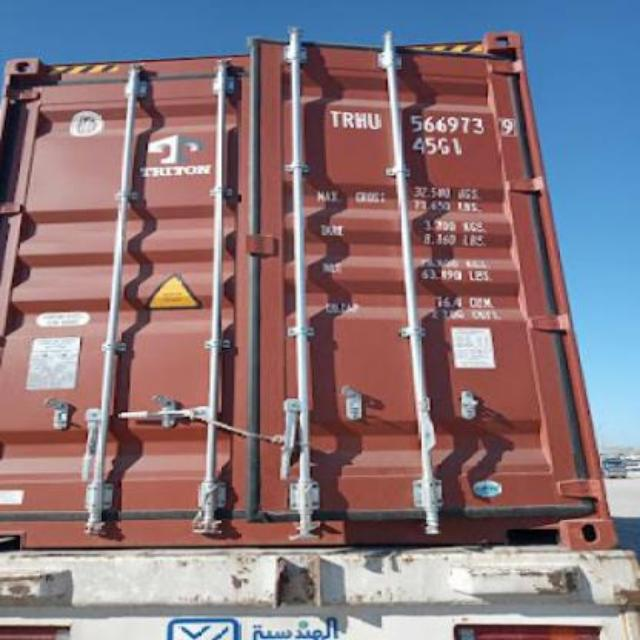3: (468, 114, 486, 136)
5: (408, 110, 424, 132)
6: (422, 110, 436, 134), (438, 112, 448, 136)
7: (458, 112, 470, 138)
9: (492, 115, 520, 136), (448, 114, 458, 136)
H: (354, 110, 368, 130)
R: (340, 110, 356, 130)
T: (328, 106, 342, 128)
U: (368, 105, 384, 134)
